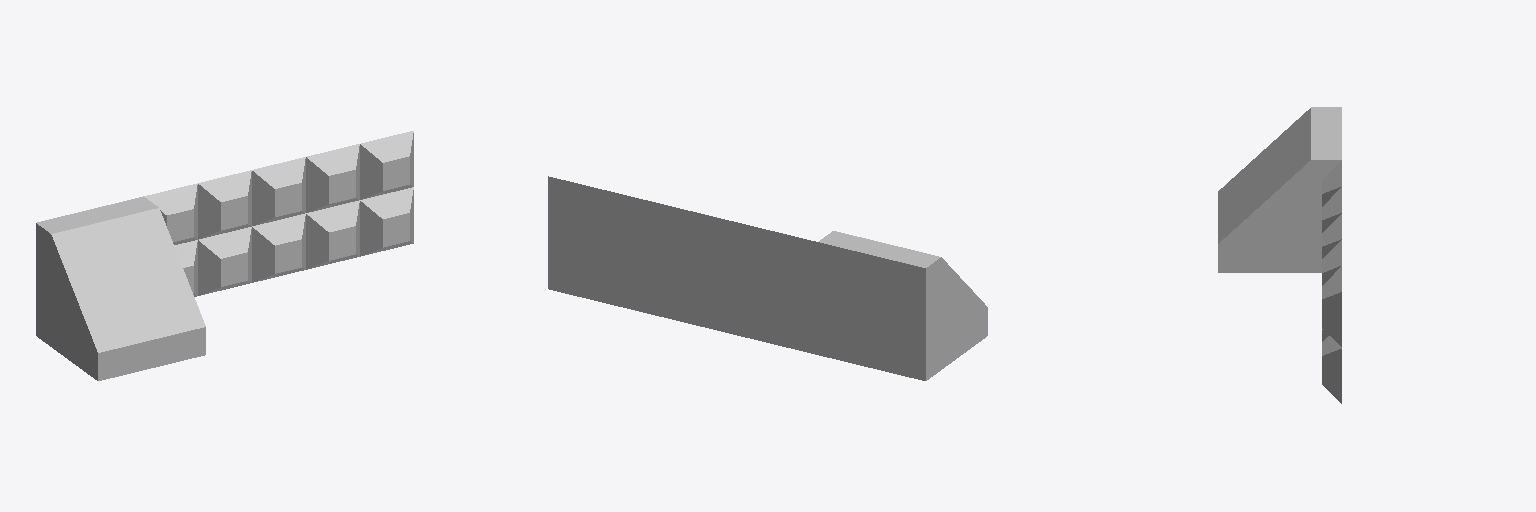
File: Body1.obj
3 views of the same model, side by side, from view 1: azimuth 30°, elevation 25°; view 2: azimuth 150°, elevation 25°; view 3: azimuth 270°, elevation 25° (orthographic).
Parts seen in each view (by area): view 1: Body1; view 2: Body1; view 3: Body1.
Part boxes in pixels (x1,y1,x2,y2): Body1: (36, 131, 413, 380); Body1: (548, 176, 987, 380); Body1: (1218, 107, 1341, 403).
Size of the model in its own units: 140 by 40 by 40.